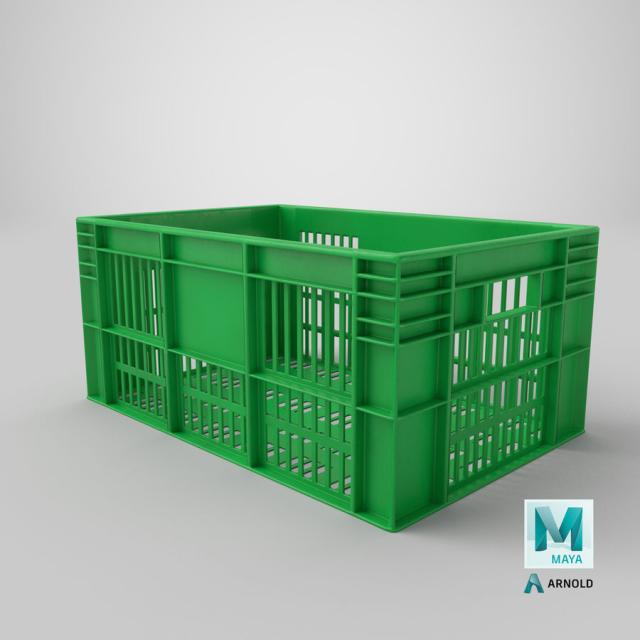basket: (55, 189, 600, 545)
